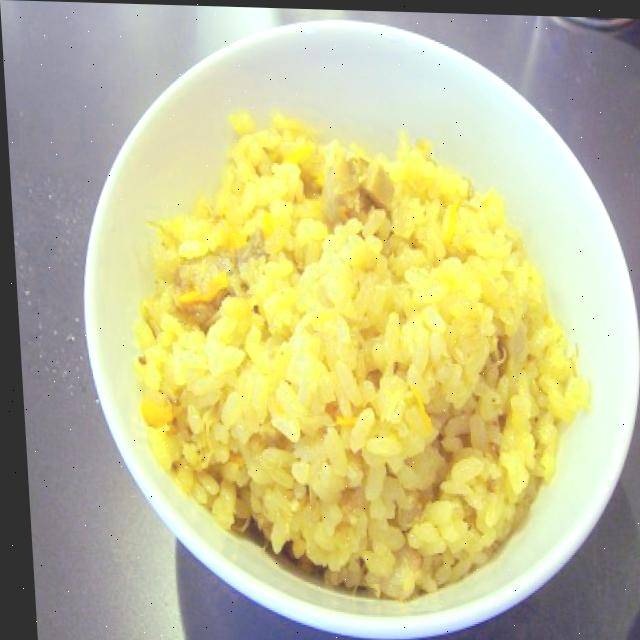米饭主食: (55, 9, 640, 640)
